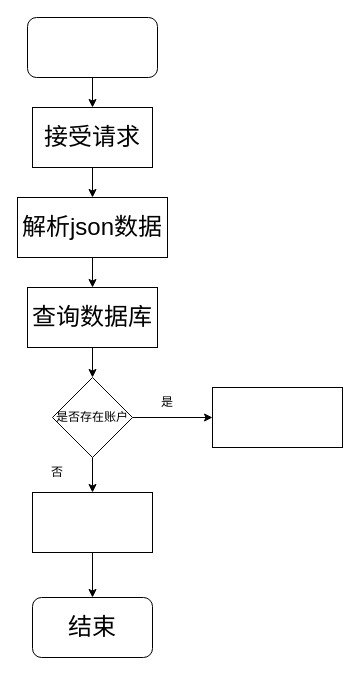
Image size: 360x675. Some labels were removed from this diagram. The centre of each missing label's shape, as x and y in pixels:
启动服务端: (92,47)
响应存在账户给客服端: (277,417)
注册成功: (92,522)
